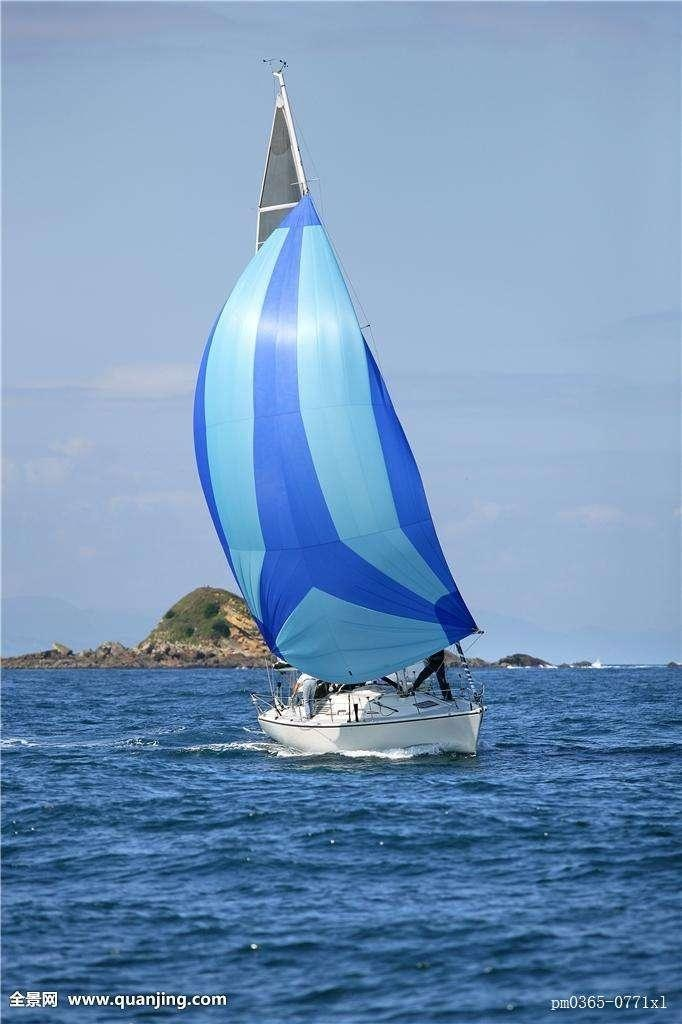fanchuan: (183, 43, 503, 768)
